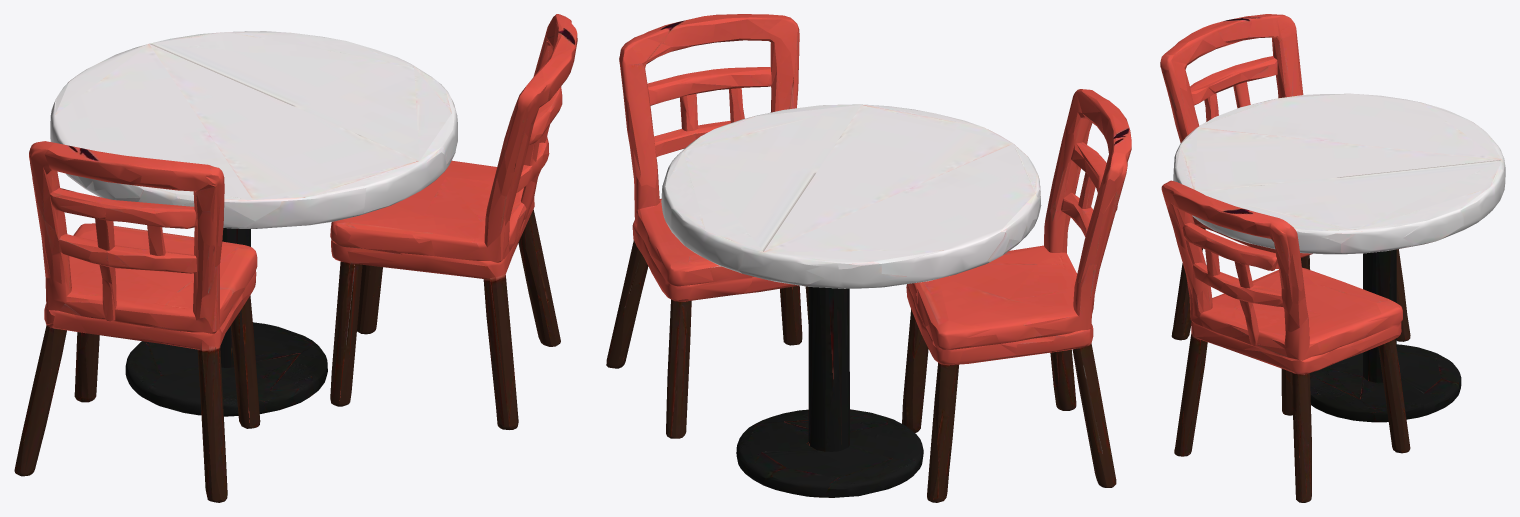
The model's file is cafe_set.glb.
3 renders of one model, left to right at view 1: azimuth 30°, elevation 25°; view 2: azimuth 150°, elevation 25°; view 3: azimuth 270°, elevation 25°, orthographic. The views are drawn at different scales.
Size of the model in its own units: 1.65 by 1 by 1.11.
Materials: 1 (1 with a texture image).
